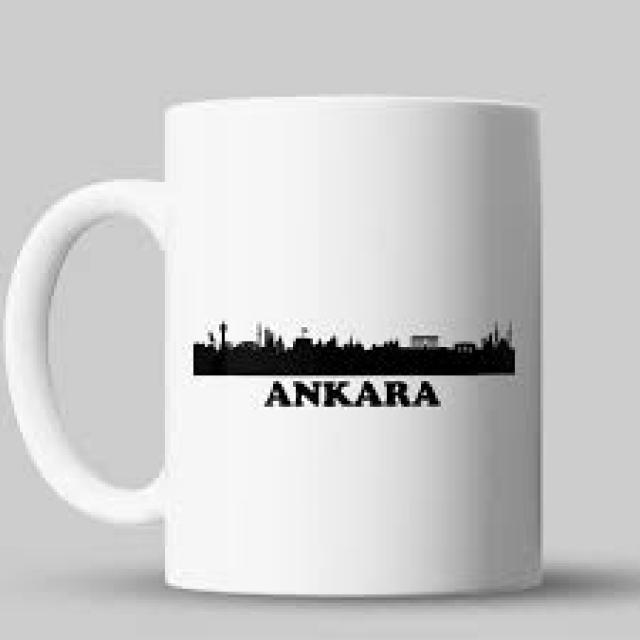taza: (6, 95, 542, 597)
